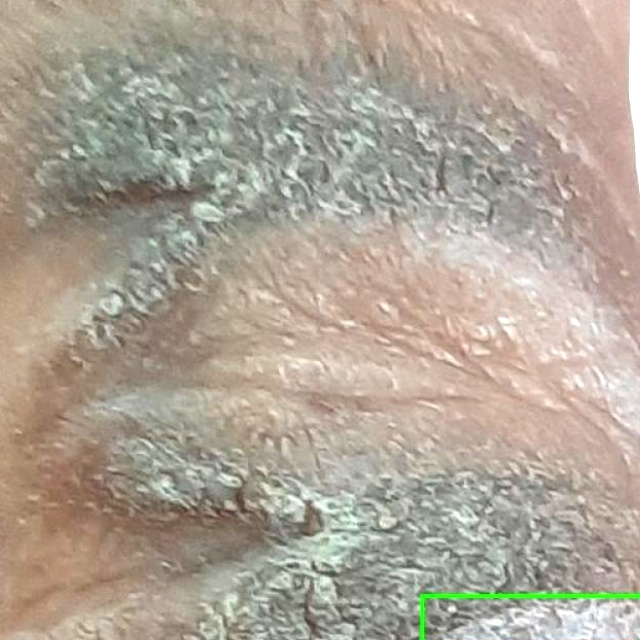Contact Dermatitis: (422, 595, 639, 639)
